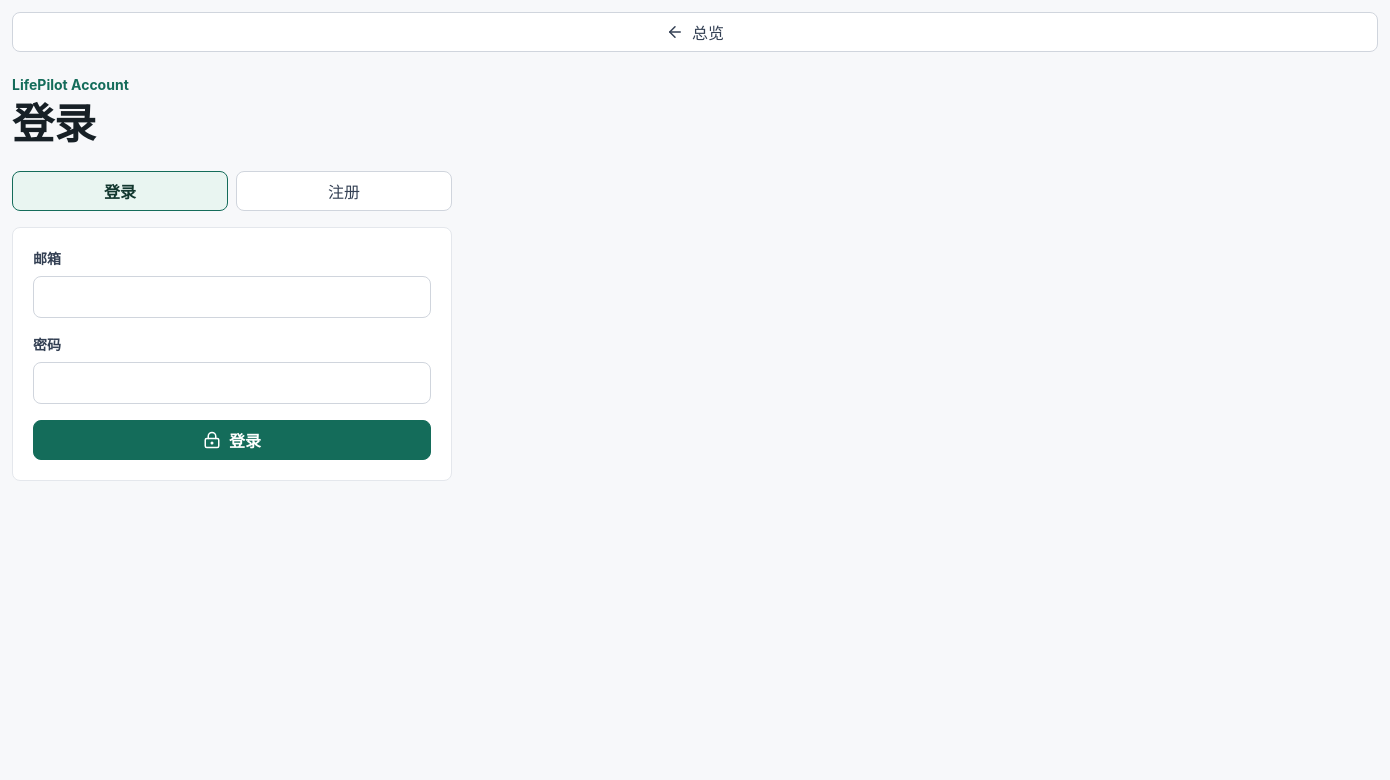
Test: AuthView › switches back to login mode
# Switch to register
Step 1. Click the tab "注册" → (344, 191), box [236,171,452,211]
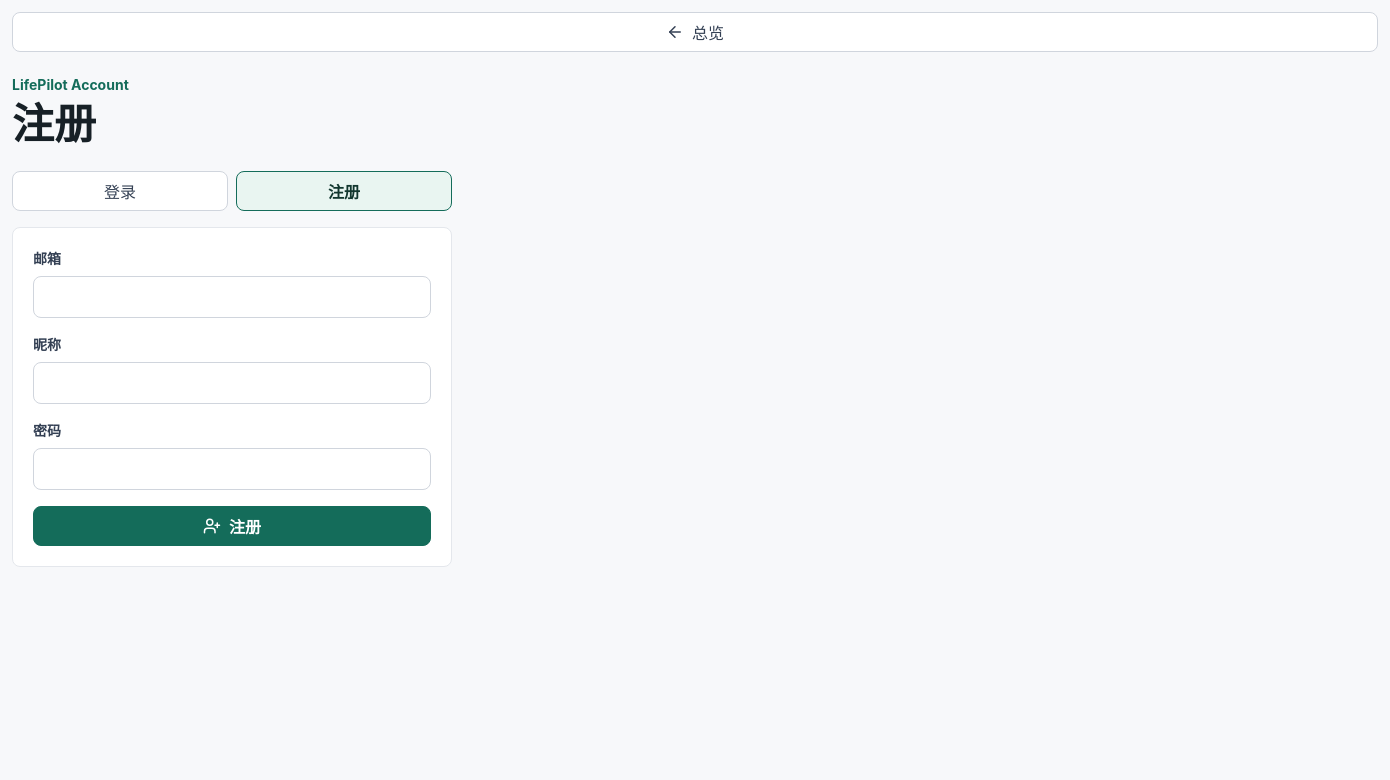
Expected: the heading "注册" is shown, [12,98,96,149]
# Switch back to login
Step 2. Click the tab "登录" → (120, 191), box [12,171,228,211]
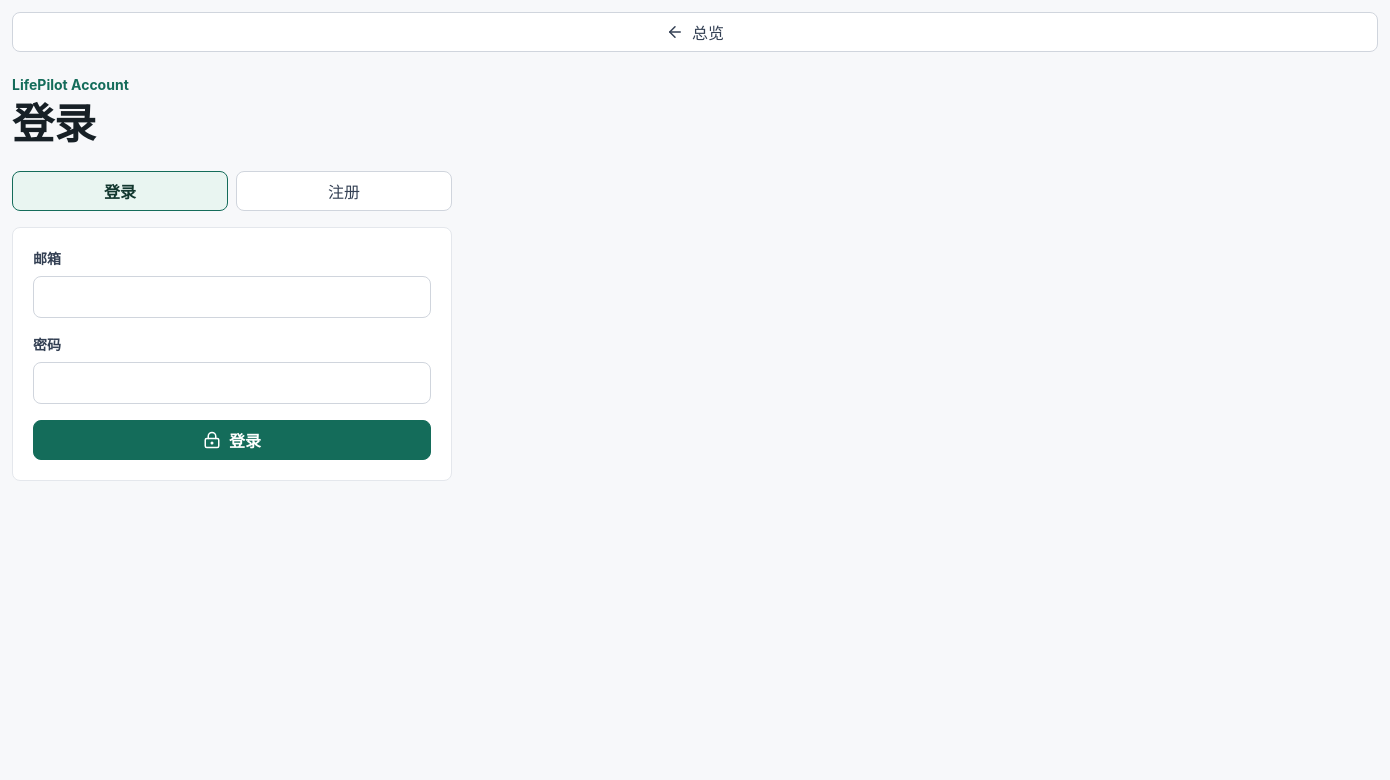
Expected: the heading "登录" is shown, [12,98,96,149]
